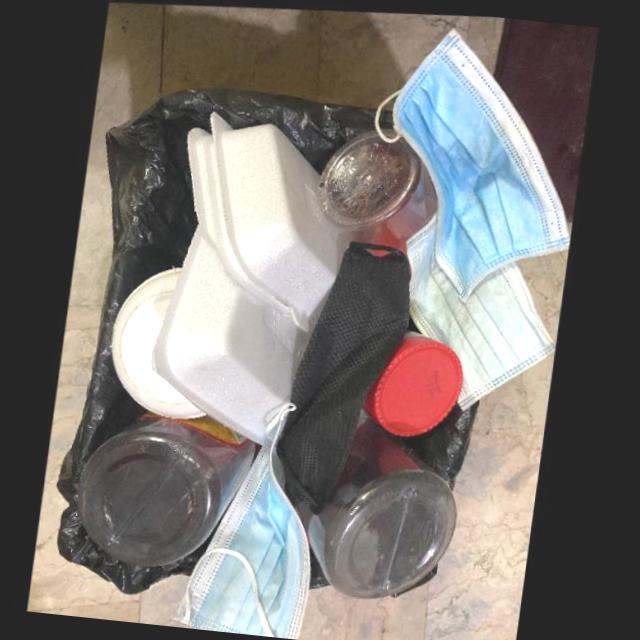hop_nhua: (310, 409, 459, 596), (79, 406, 257, 561), (318, 126, 439, 252), (365, 333, 465, 435)
khau_trang: (374, 26, 571, 301), (278, 237, 416, 526), (176, 398, 314, 640), (407, 212, 558, 411)
xop: (187, 109, 355, 332), (153, 220, 298, 441), (113, 261, 208, 413)
